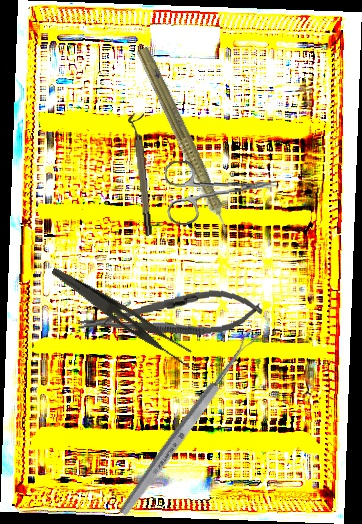Dressing Forceps: (41, 266, 202, 371)
Fixation Ring: (127, 112, 155, 237)
Handpiece: (127, 44, 243, 250)
Iris Scissors: (163, 154, 280, 226)
Needle Holder: (75, 284, 265, 347)
Surgical Spoon: (116, 327, 261, 519)
